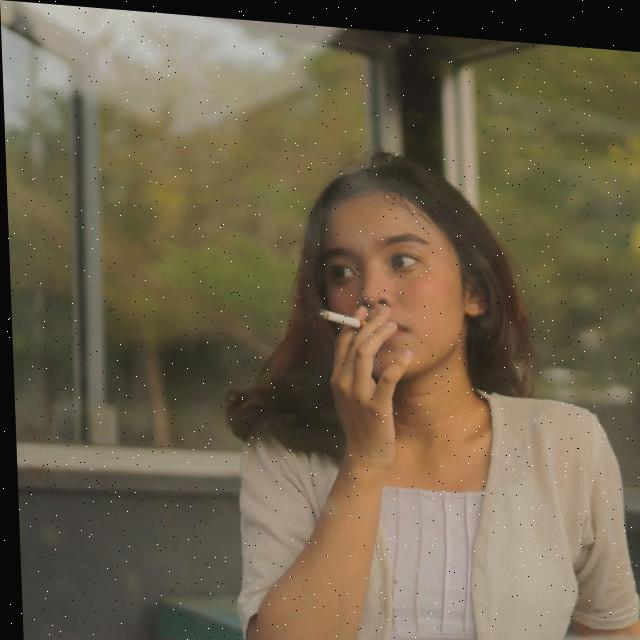cigarette: (315, 304, 364, 323)
